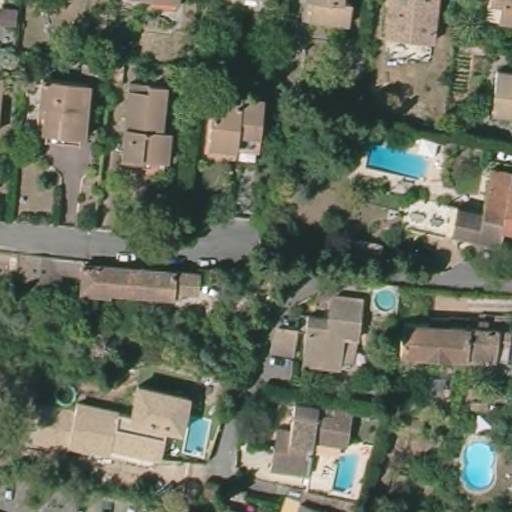pool: (362, 138, 433, 182), (457, 438, 498, 493), (181, 409, 212, 462), (331, 446, 363, 496), (372, 286, 400, 315)
